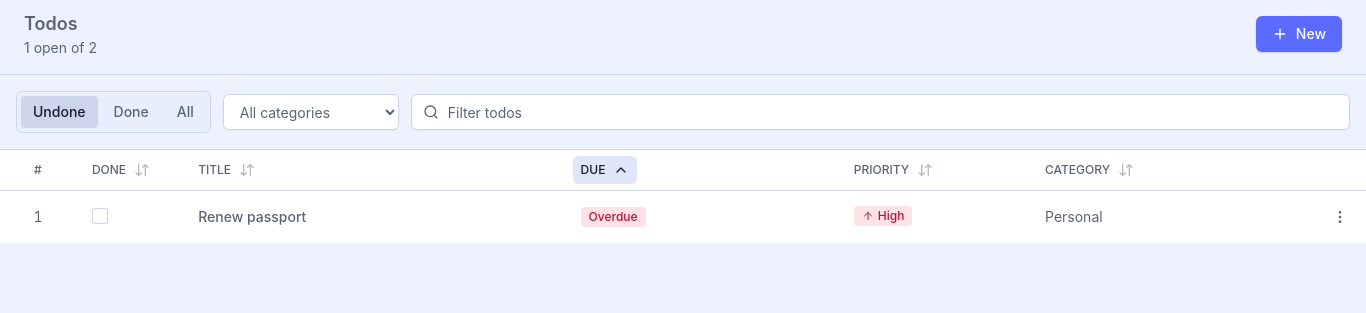
Test: TodosListView › filters rows by todo status
The width and height of the screenshot is (1366, 313).
Expected: the button "Renew passport" is shown, [198,206,306,226]
Expected: the text "Done task" is not shown
Click the radio button labelled "Done": (131, 112) [102,96,161,128]
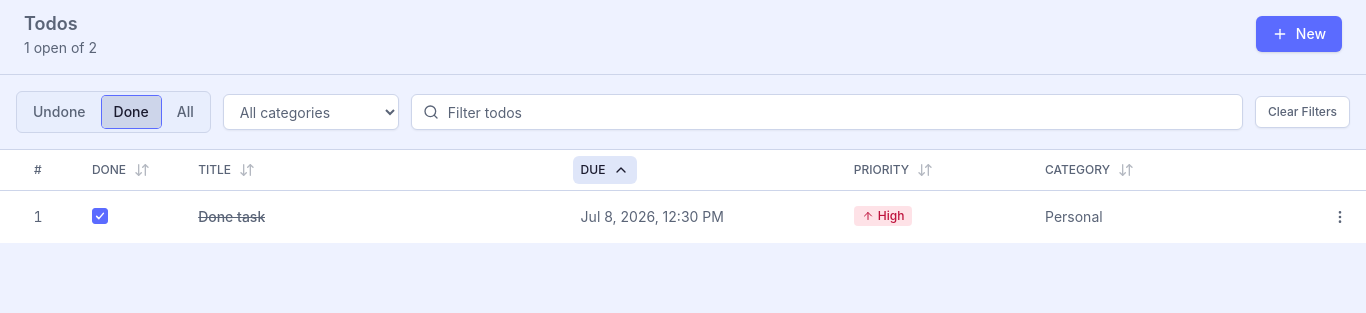
Result: the button "Renew passport" is gone
Result: the button "Done task" is shown at [198,206,265,226]
Result: the button "Clear Filters" is shown at [1255,96,1350,128]
Click the radio button labelled "All": (185, 112) [165,96,206,128]
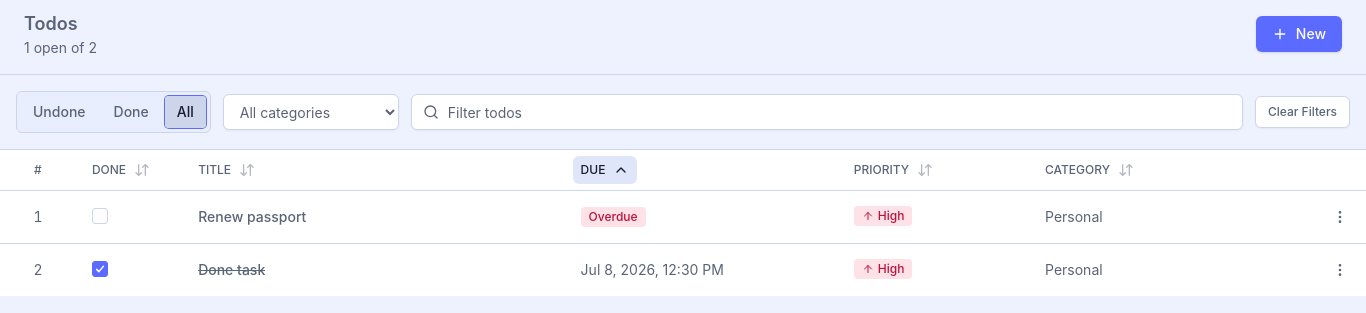
Result: the button "Done task" is shown at [198,260,265,280]
Result: the button "Renew passport" is shown at [198,206,306,226]
Click the button "Clear Filters": (1302, 112) [1255,96,1350,128]
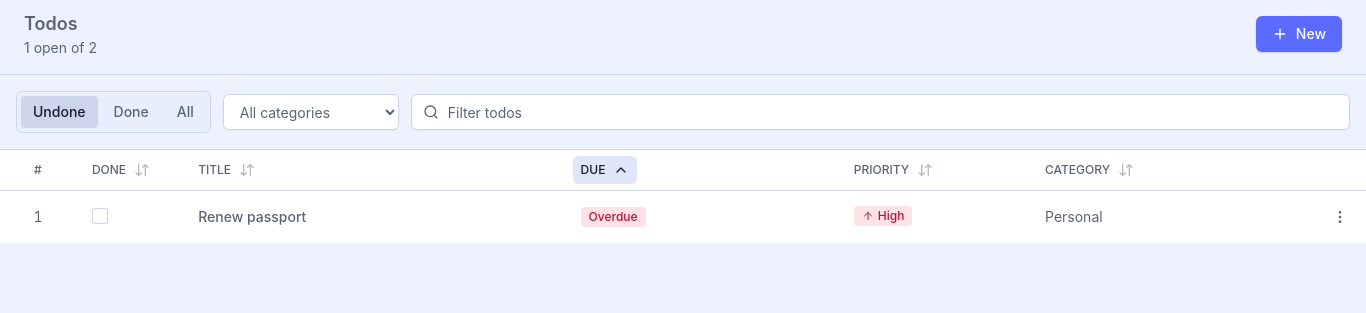
Result: the radio button labelled "Undone" is checked at [21,96,98,128]
Result: the button "Clear Filters" is gone
